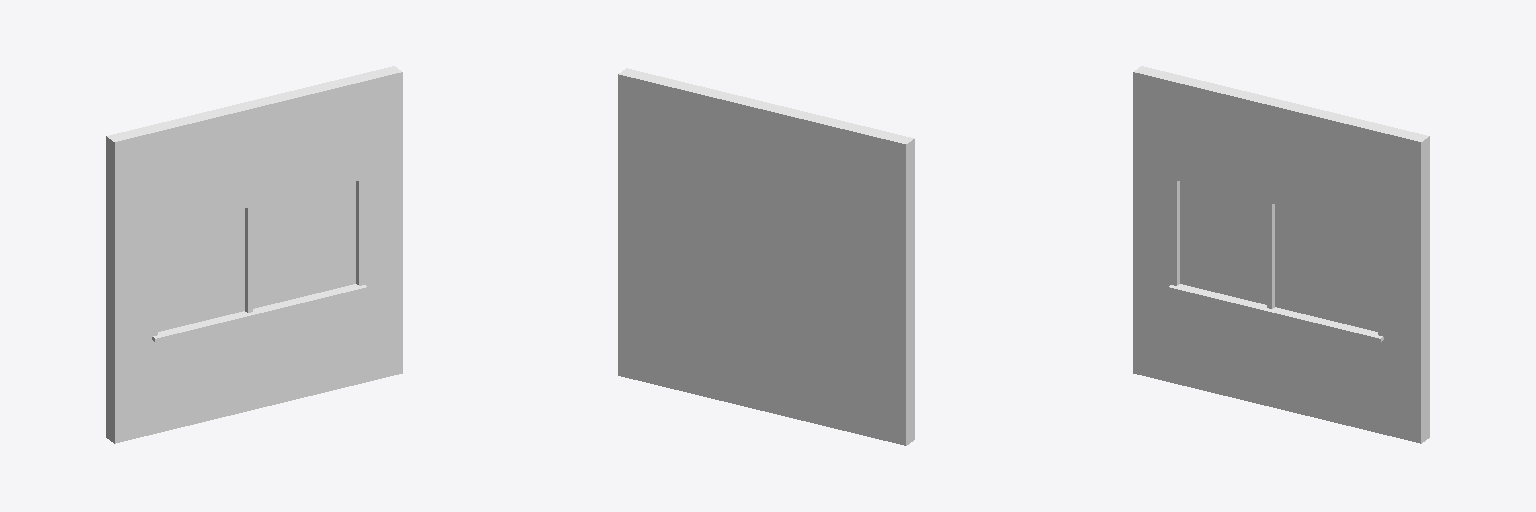
Rendered from wallWithWindow1-2-lod1.obj.
3 renders of one model, left to right at view 1: azimuth 30°, elevation 25°; view 2: azimuth 150°, elevation 25°; view 3: azimuth 330°, elevation 25°, orthographic.
Parts seen in each view (by area): view 1: lod1; view 2: lod1; view 3: lod1.
Part boxes in pixels (bbox=[...]): lod1: bbox=[106, 66, 402, 443]; lod1: bbox=[618, 68, 914, 445]; lod1: bbox=[1133, 66, 1429, 443].
Size of the model in its own units: 16 by 16 by 1.1.